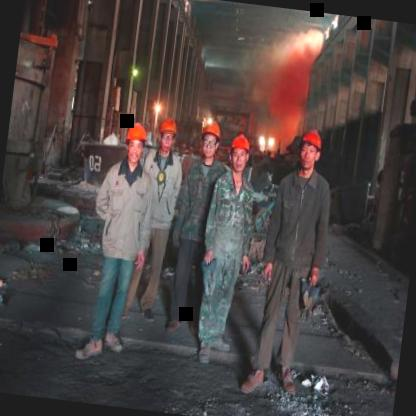helmet: (293, 125, 327, 175), (121, 118, 151, 166), (226, 130, 253, 173), (198, 116, 222, 160), (156, 116, 179, 156)
